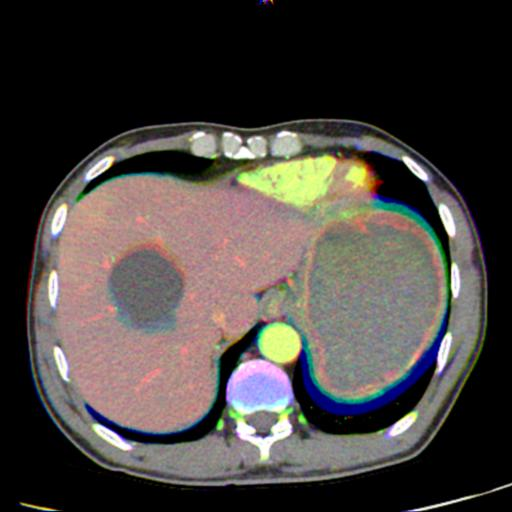Cyst: (109, 248, 183, 332)
